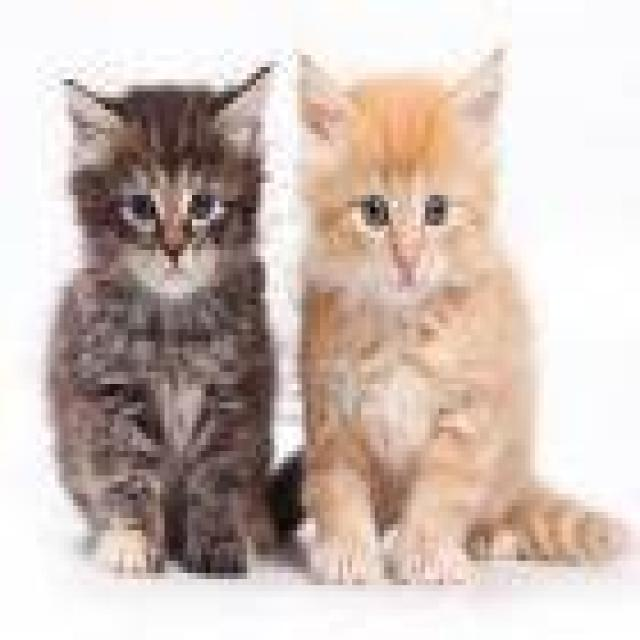cat: (288, 43, 626, 585), (41, 55, 297, 573)
